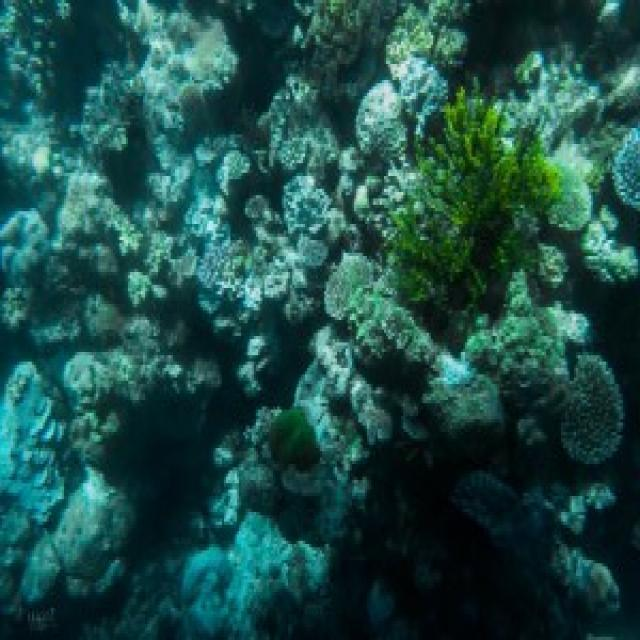Bleached: (191, 211, 272, 335), (349, 72, 415, 167), (615, 120, 640, 219)
Healthy: (548, 348, 632, 477), (54, 156, 143, 270), (58, 475, 130, 604), (246, 403, 331, 498), (467, 280, 548, 376)
